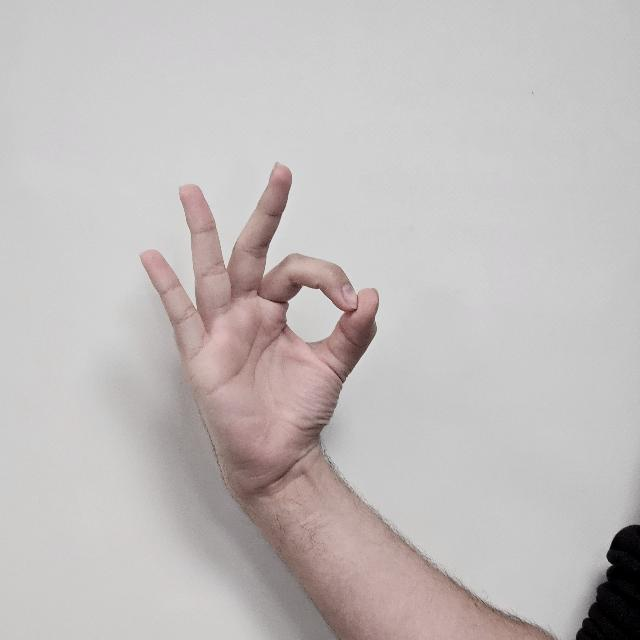Bolinha: (123, 141, 401, 501)
